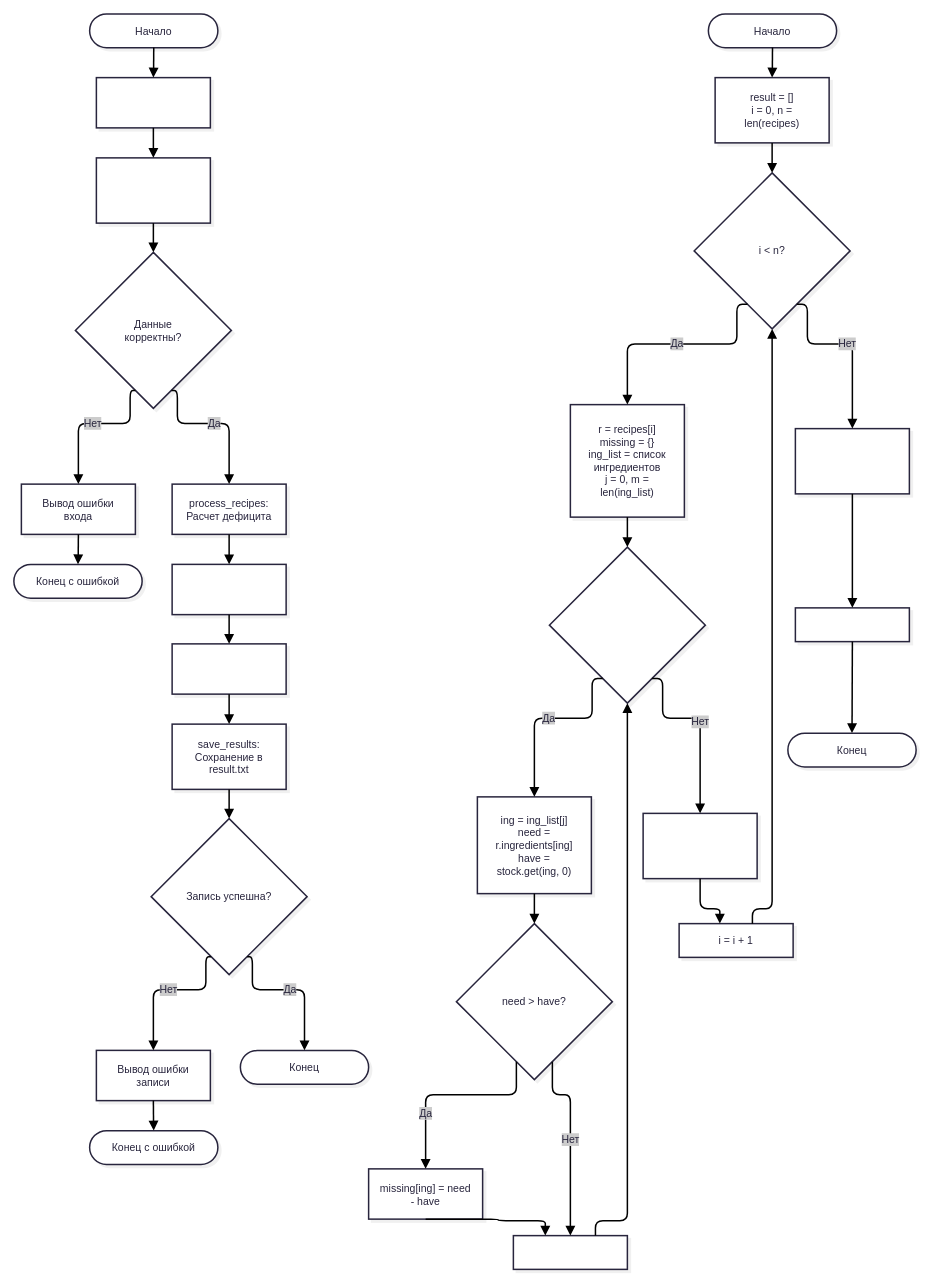
Image size: 932x1286. Some labels were removed from this diagram. The centre of each missing label's shape, as x and y in pixels:
"j < m?" belongs at point (628, 626).
"j = j + 1" belongs at point (571, 1253).
"load_data: Чтение и проверка данных" belongs at point (154, 191).
"Ввод ID рецепта для покупок" belongs at point (230, 590).
"Ввод имени файла data.json" belongs at point (154, 103).
"Вернуть result" belongs at point (853, 626).
"Вывод результатов на экран" belongs at point (230, 670).
"Добавить r в result с числом нехваток" belongs at point (701, 847).
"Сортировка result по числу нехваток и названию" belongs at point (853, 462).
